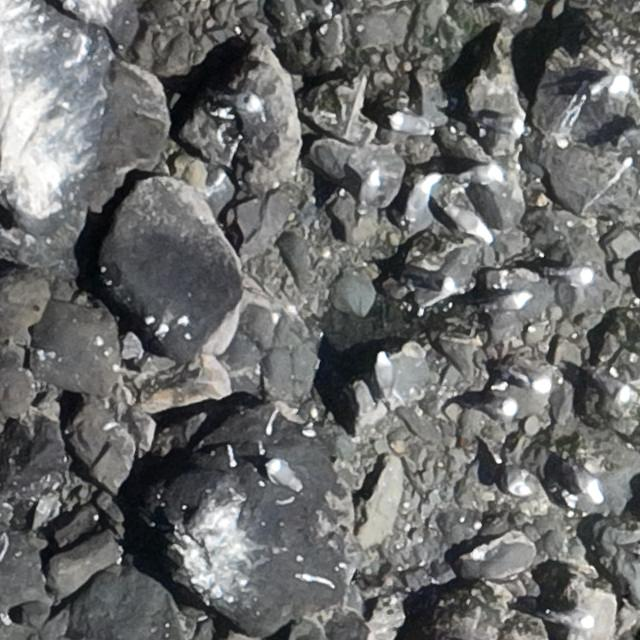umineko: (442, 246, 485, 300), (401, 175, 438, 226), (450, 206, 498, 244), (568, 457, 603, 505), (266, 459, 306, 497), (548, 603, 600, 632), (210, 91, 268, 114), (579, 70, 630, 96), (374, 346, 394, 412), (486, 291, 532, 318), (529, 356, 555, 398), (506, 455, 531, 498), (359, 168, 382, 213), (389, 115, 429, 135), (486, 400, 521, 418), (568, 268, 594, 285)
